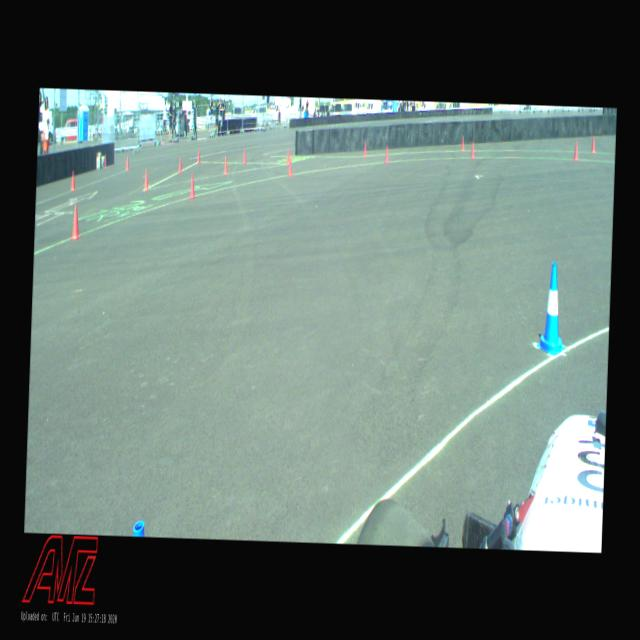blue_cone: (536, 262, 568, 355)
unknown_cone: (70, 205, 81, 238), (188, 175, 196, 198), (144, 170, 150, 190), (572, 141, 578, 160), (223, 155, 228, 174), (70, 171, 75, 190), (288, 156, 292, 175), (385, 144, 389, 162), (470, 140, 474, 158), (591, 138, 596, 152), (178, 156, 182, 172), (286, 148, 290, 164), (242, 148, 245, 164), (197, 148, 200, 162), (126, 156, 129, 169), (462, 136, 464, 150), (364, 142, 366, 155), (104, 154, 106, 166)
